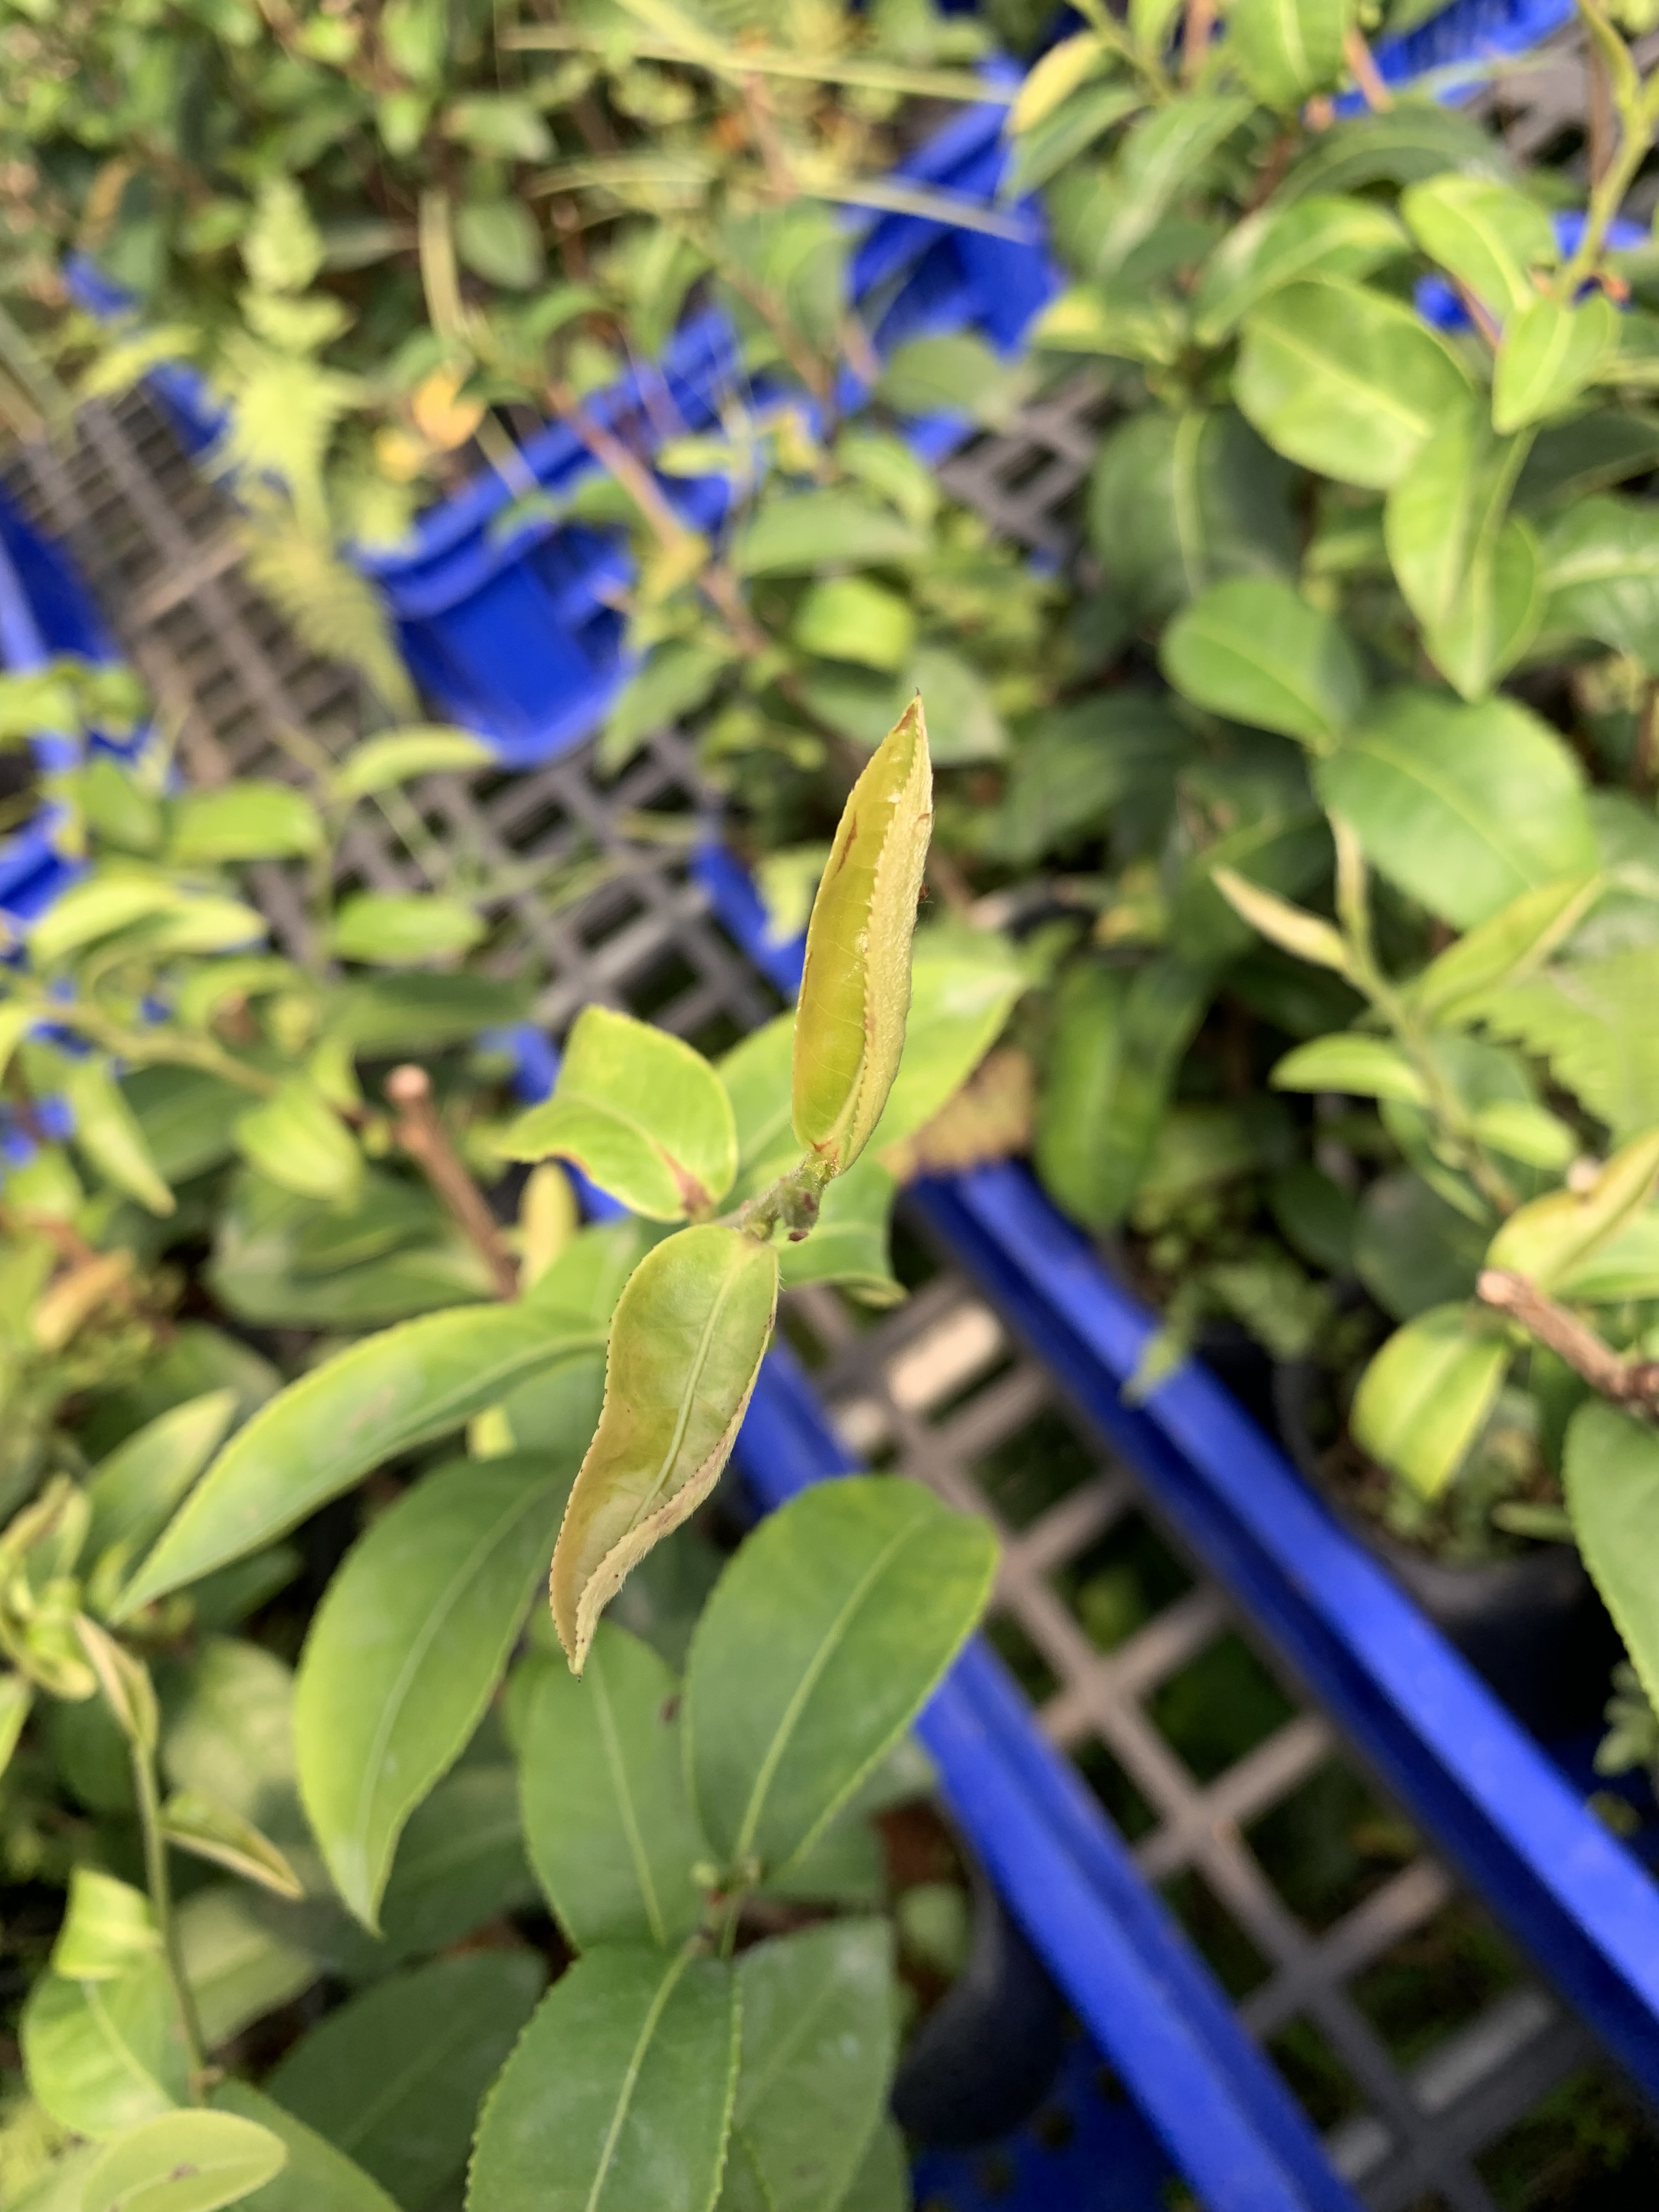formosa: (537, 1205, 775, 1707), (784, 676, 945, 1179)
